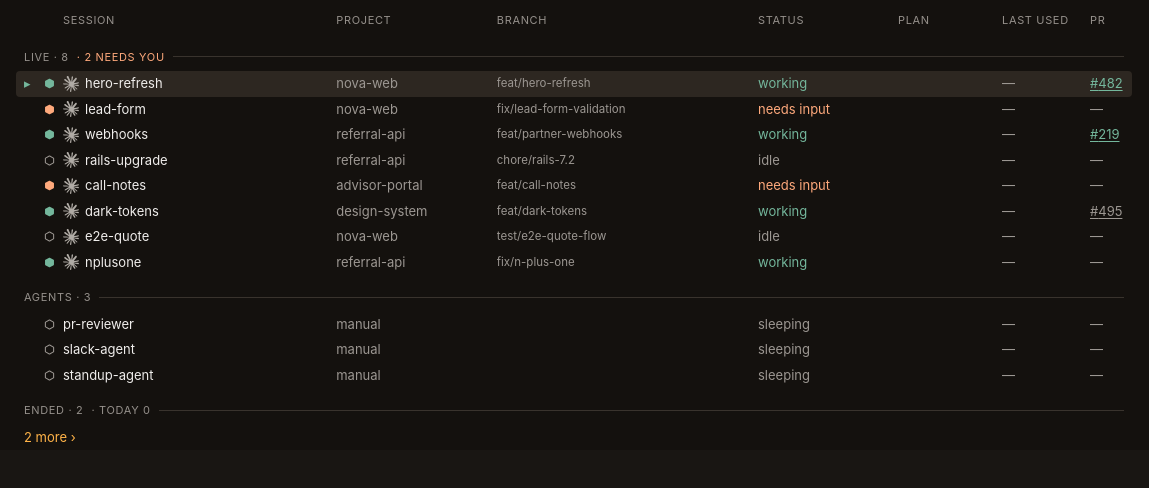
Test: SessionTable — groups (HIVE-197) › folds yesterday’s endings behind "N more", which reveals them
The width and height of the screenshot is (1149, 488).
Expected: the text "ENDED · 2" is shown, left=24, top=402, right=83, bottom=418
Expected: the text "· TODAY 0" is shown, left=91, top=402, right=151, bottom=418
Click the button "2 more ›".
click(50, 437)  # box left=16, top=424, right=84, bottom=450
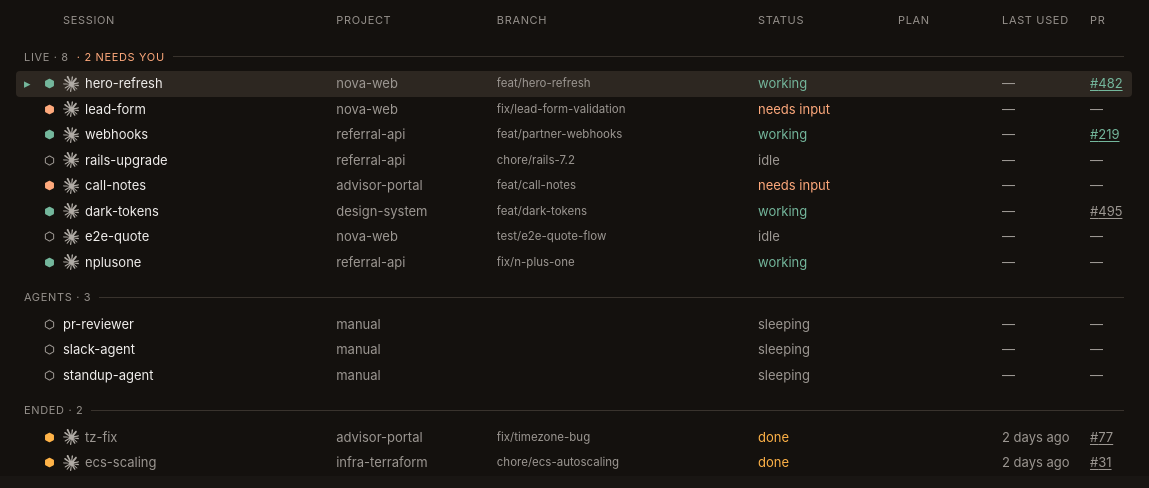
Now the button "more ›" is gone
